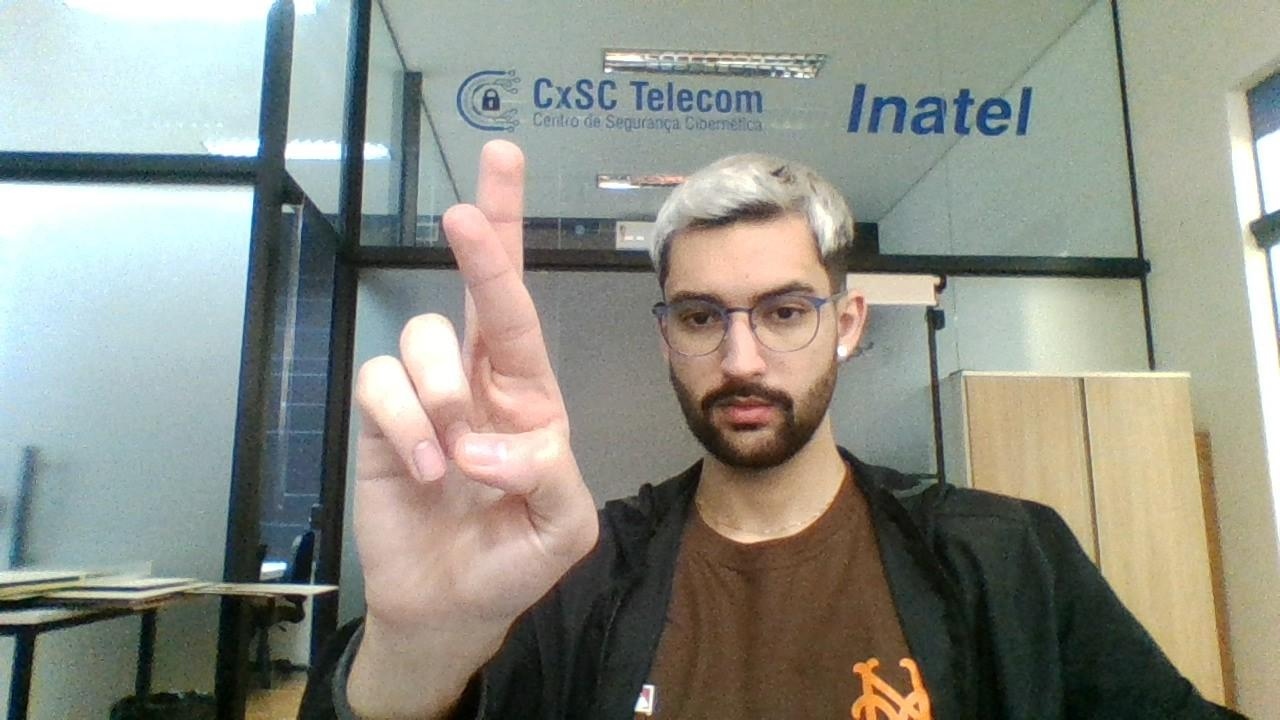R: (340, 134, 608, 638)
